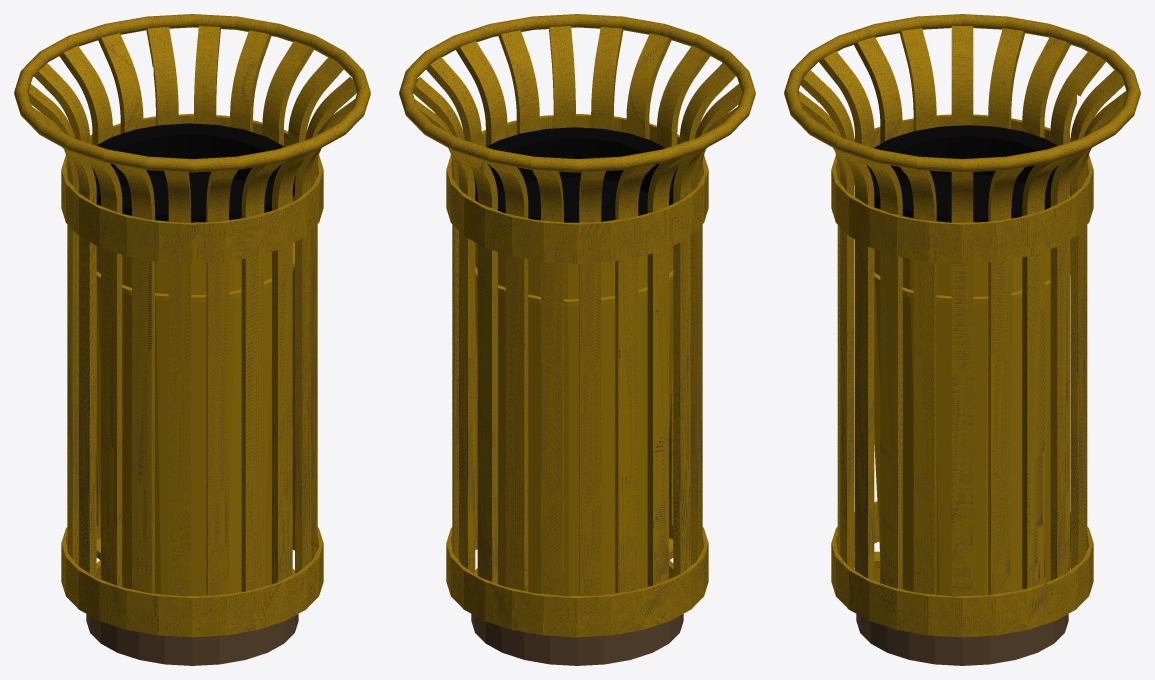
3 views of the same model, side by side, from view 1: azimuth 30°, elevation 25°; view 2: azimuth 150°, elevation 25°; view 3: azimuth 270°, elevation 25° (orthographic).
Parts seen in each view (by area): view 1: mesh26.001_mesh26-geometry, mesh13.001_mesh13-geometry, mesh27.001_mesh27-geometry, mesh40.001_mesh40-geometry, mesh28.001_mesh28-geometry, mesh29.001_mesh29-geometry, mesh30.001_mesh30-geometry, mesh31.001_mesh31-geometry, mesh1.001_mesh1-geometry, mesh44.001_mesh44-geometry, mesh42.001_mesh42-geometry, mesh32.001_mesh32-geometry (+9 smaller); view 2: mesh26.001_mesh26-geometry, mesh13.001_mesh13-geometry, mesh27.001_mesh27-geometry, mesh40.001_mesh40-geometry, mesh33.001_mesh33-geometry, mesh36.001_mesh36-geometry, mesh34.001_mesh34-geometry, mesh32.001_mesh32-geometry, mesh37.001_mesh37-geometry, mesh1.001_mesh1-geometry, mesh35.001_mesh35-geometry, mesh31.001_mesh31-geometry (+9 smaller); view 3: mesh26.001_mesh26-geometry, mesh13.001_mesh13-geometry, mesh27.001_mesh27-geometry, mesh40.001_mesh40-geometry, mesh41.001_mesh41-geometry, mesh39.001_mesh39-geometry, mesh43.001_mesh43-geometry, mesh38.001_mesh38-geometry, mesh1.001_mesh1-geometry, mesh35.001_mesh35-geometry, mesh42.001_mesh42-geometry, mesh44.001_mesh44-geometry (+9 smaller).
Part boxes in pixels (left/top/right/bottom): mesh26.001_mesh26-geometry: left=14, top=14, right=370, bottom=591; mesh13.001_mesh13-geometry: left=96, top=242, right=294, bottom=595; mesh27.001_mesh27-geometry: left=61, top=525, right=323, bottom=665; mesh40.001_mesh40-geometry: left=61, top=114, right=323, bottom=263; mesh28.001_mesh28-geometry: left=114, top=164, right=154, bottom=593; mesh29.001_mesh29-geometry: left=206, top=170, right=237, bottom=595; mesh30.001_mesh30-geometry: left=164, top=171, right=190, bottom=596; mesh31.001_mesh31-geometry: left=75, top=153, right=122, bottom=587; mesh1.001_mesh1-geometry: left=92, top=123, right=296, bottom=222; mesh44.001_mesh44-geometry: left=272, top=149, right=318, bottom=584; mesh42.001_mesh42-geometry: left=295, top=148, right=321, bottom=573; mesh32.001_mesh32-geometry: left=32, top=107, right=78, bottom=566; mesh26.001_mesh26-geometry: left=399, top=14, right=755, bottom=591; mesh13.001_mesh13-geometry: left=475, top=242, right=673, bottom=596; mesh27.001_mesh27-geometry: left=446, top=525, right=708, bottom=665; mesh40.001_mesh40-geometry: left=446, top=114, right=708, bottom=263; mesh33.001_mesh33-geometry: left=615, top=164, right=655, bottom=593; mesh36.001_mesh36-geometry: left=532, top=170, right=563, bottom=595; mesh34.001_mesh34-geometry: left=579, top=171, right=605, bottom=595; mesh32.001_mesh32-geometry: left=647, top=153, right=694, bottom=586; mesh37.001_mesh37-geometry: left=451, top=149, right=497, bottom=583; mesh1.001_mesh1-geometry: left=473, top=127, right=677, bottom=222; mesh35.001_mesh35-geometry: left=448, top=148, right=475, bottom=573; mesh31.001_mesh31-geometry: left=691, top=107, right=737, bottom=565; mesh26.001_mesh26-geometry: left=784, top=14, right=1140, bottom=596; mesh13.001_mesh13-geometry: left=874, top=239, right=1070, bottom=596; mesh27.001_mesh27-geometry: left=831, top=501, right=1093, bottom=665; mesh40.001_mesh40-geometry: left=831, top=114, right=1093, bottom=263; mesh41.001_mesh41-geometry: left=900, top=167, right=936, bottom=594; mesh39.001_mesh39-geometry: left=988, top=167, right=1024, bottom=594; mesh43.001_mesh43-geometry: left=855, top=156, right=902, bottom=589; mesh38.001_mesh38-geometry: left=1022, top=156, right=1069, bottom=589; mesh1.001_mesh1-geometry: left=866, top=125, right=1070, bottom=222; mesh35.001_mesh35-geometry: left=1050, top=148, right=1091, bottom=580; mesh42.001_mesh42-geometry: left=833, top=148, right=874, bottom=580; mesh44.001_mesh44-geometry: left=812, top=118, right=854, bottom=569.
Bounding box in the file's own units: 0.4599 × 0.7596 × 0.4599.
